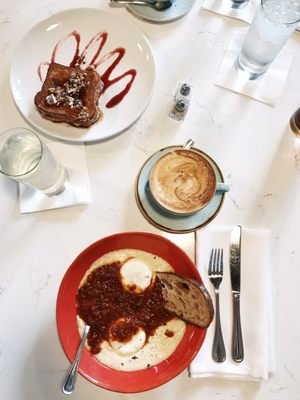pizza: (235, 0, 300, 79)
salad: (62, 325, 89, 394)
sandwich: (229, 226, 245, 364)
